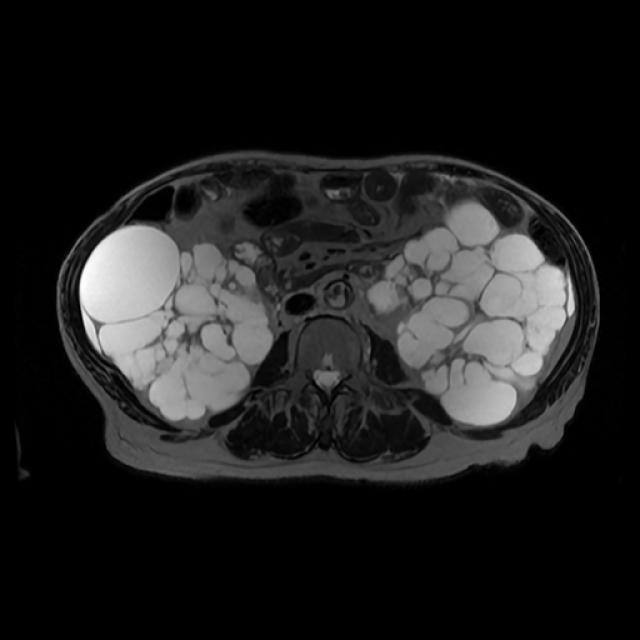sag: (79, 222, 272, 422)
sol: (365, 200, 567, 424)
